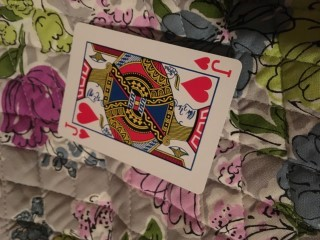JackOfHearts: (57, 22, 243, 194)
